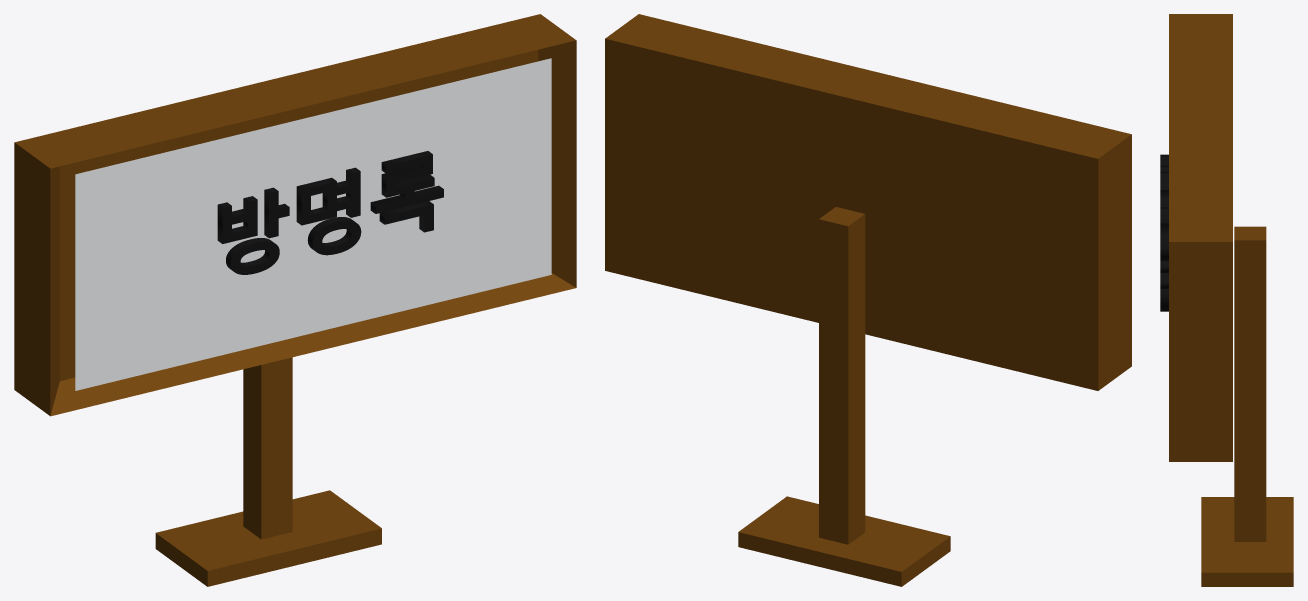
File: guest-book.glb
3 renders of one model, left to right at view 1: azimuth 30°, elevation 25°; view 2: azimuth 150°, elevation 25°; view 3: azimuth 270°, elevation 25°, orthographic. The views are drawn at different scales.
Parts seen in each view (by area): view 1: Plane.001, Plane, Text, Plane.002, Cube; view 2: Plane, Cube, Plane.002; view 3: Plane, Cube, Plane.002, Text.
Boxes of the visible parts, <box> form: Plane.001: <box>75,58,551,390</box>; Plane: <box>14,14,576,416</box>; Text: <box>217,151,443,274</box>; Plane.002: <box>155,490,381,586</box>; Cube: <box>243,357,292,539</box>; Plane: <box>605,14,1131,390</box>; Cube: <box>819,207,865,544</box>; Plane.002: <box>738,496,950,586</box>; Plane: <box>1169,14,1232,461</box>; Cube: <box>1234,226,1266,541</box>; Plane.002: <box>1201,497,1293,586</box>; Text: <box>1160,154,1168,311</box>.
Bounding box in the file's own units: 0.997 × 0.8591 × 0.2464.
